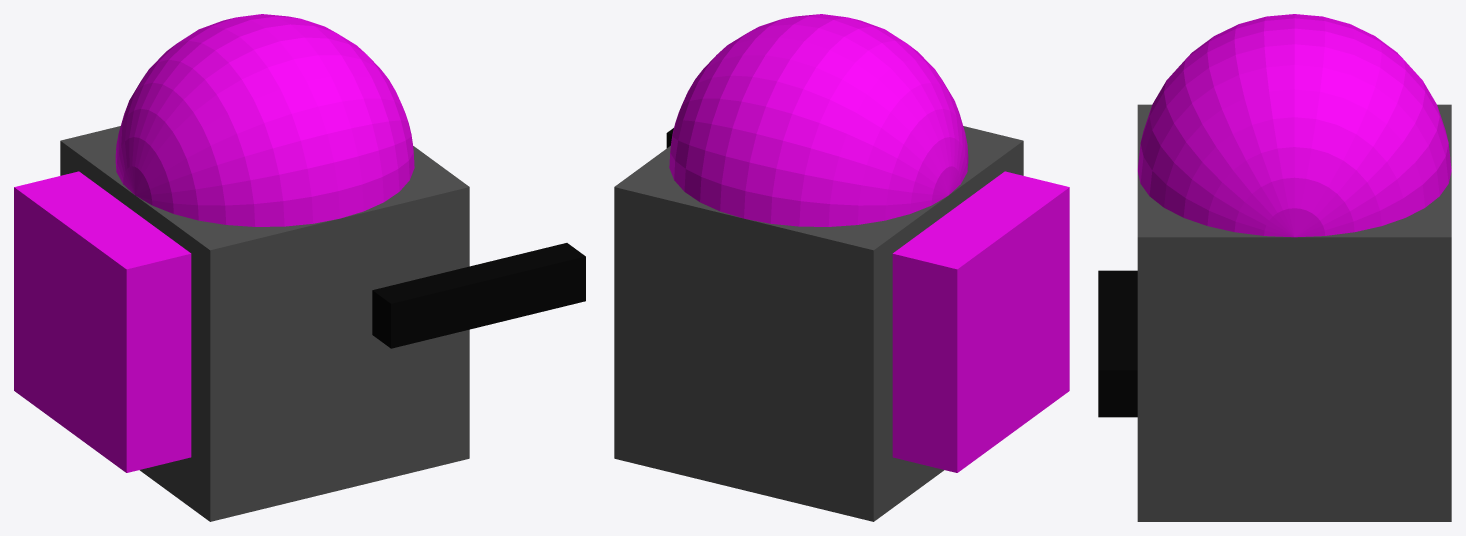
File: vanguardMarine.glb
3 renders of one model, left to right at view 1: azimuth 30°, elevation 25°; view 2: azimuth 150°, elevation 25°; view 3: azimuth 270°, elevation 25°, orthographic. The views are drawn at different scales.
Parts seen in each view (by area): view 1: Cube, Sphere, Cube.001, Cube.002; view 2: Cube, Sphere, Cube.001; view 3: Cube, Sphere, Cube.002.
Boxes of the visible parts, x1,y1,x2,y2 form: Cube: (60,126,469,521); Sphere: (115,14,414,226); Cube.001: (14,171,191,472); Cube.002: (372,243,585,348); Cube: (614,126,1023,521); Sphere: (669,14,968,226); Cube.001: (892,171,1069,472); Cube: (1137,104,1451,521); Sphere: (1137,14,1451,237); Cube.002: (1098,270,1137,417).
Bounding box in the file's own units: 6.5 × 6 × 4.5.
